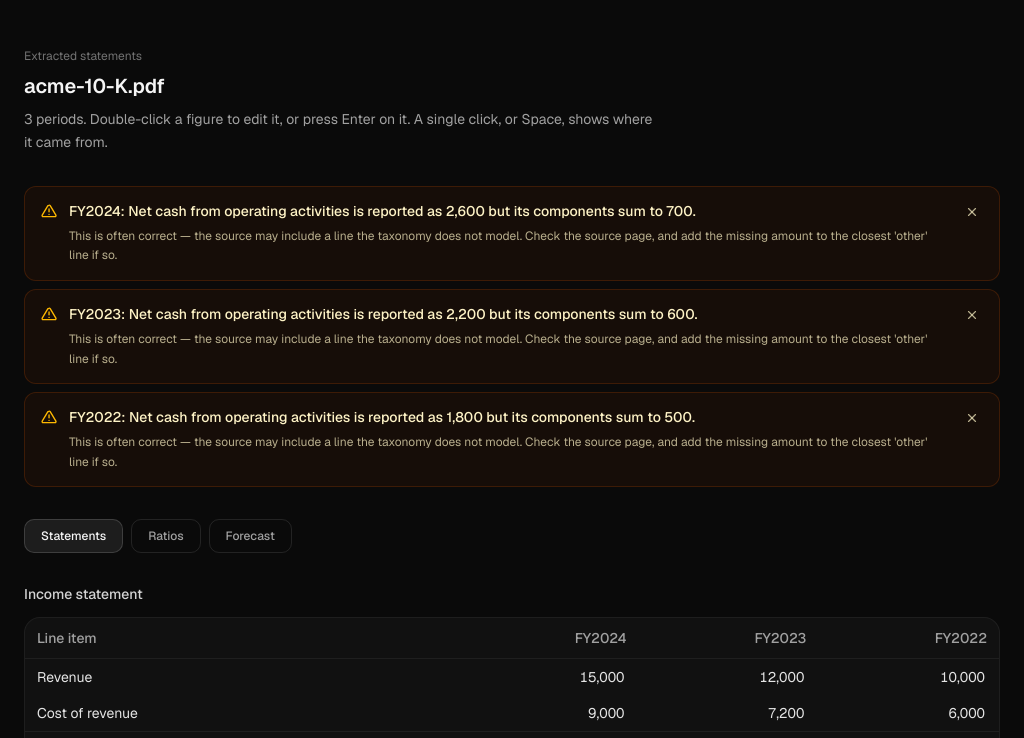
Test case: clicking a ratio component that sits in a forecast period › still opens provenance for a historical component
Click the tab "Ratios".
click(166, 536)  # box [131,519,201,553]
(page scrolled)
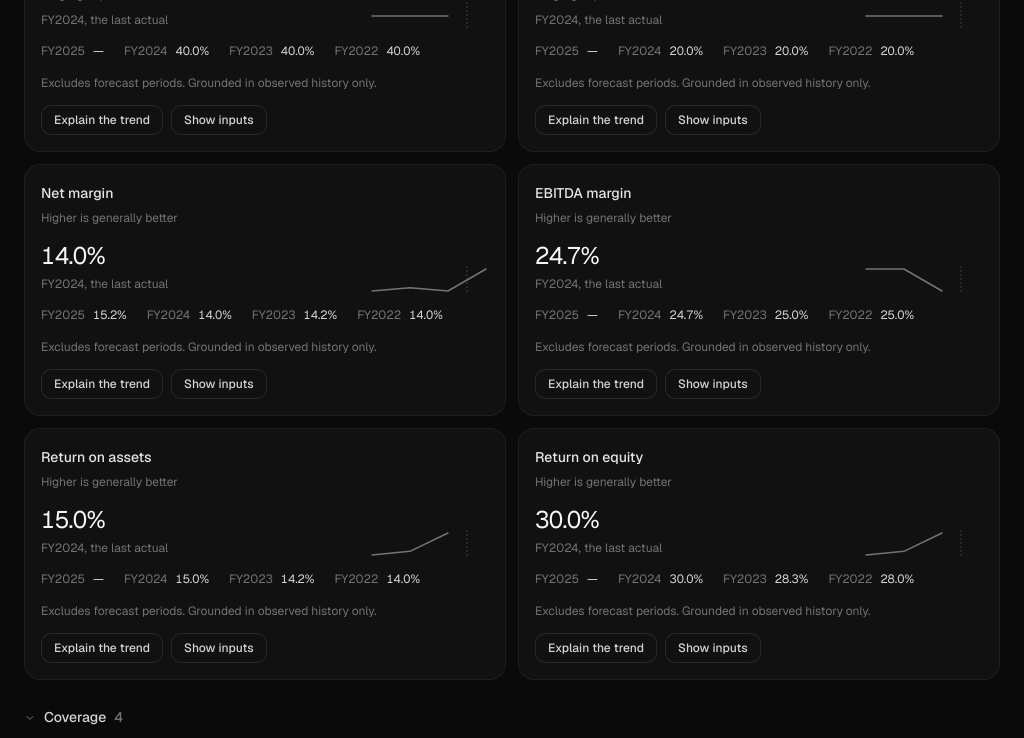
Click the button "Show inputs" below "15.2%".
click(219, 384)  # box [171,369,267,399]
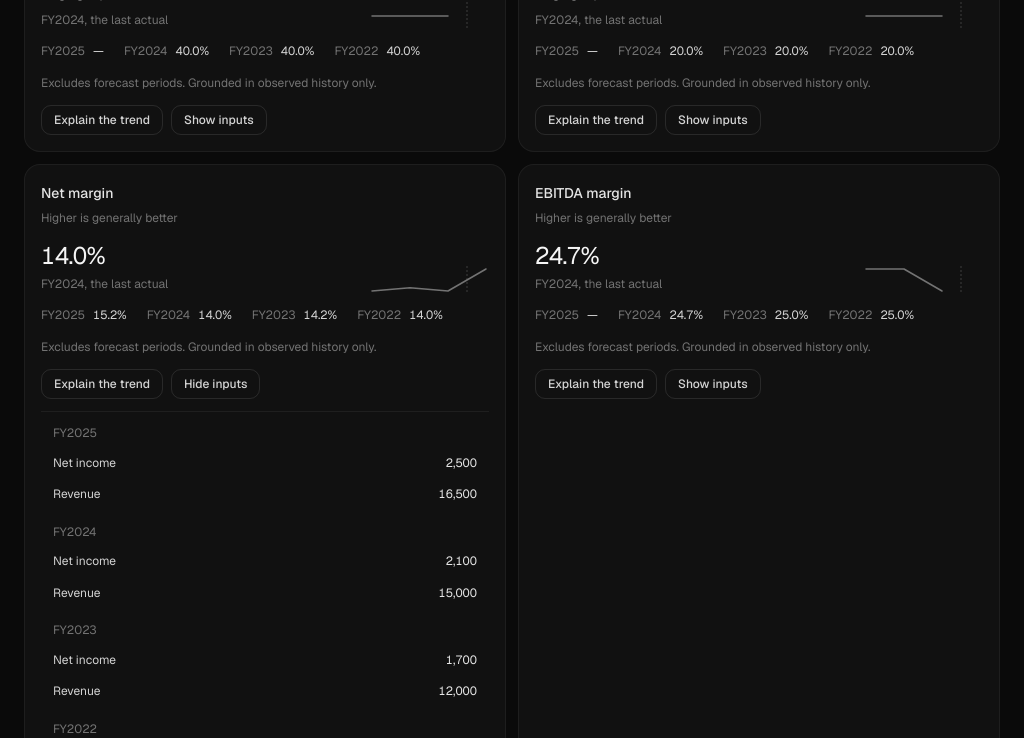
Click the button with aria-label "Revenue, FY2024".
click(77, 593)  # box [41,578,489,609]
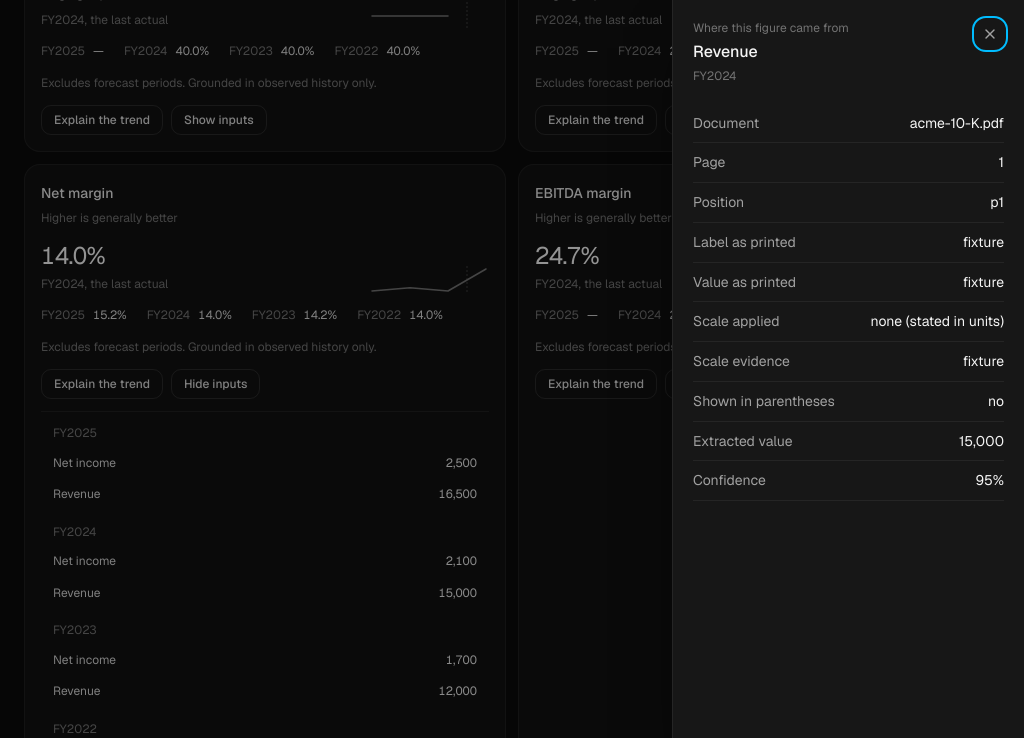
Check: the text "Where this figure came from" is shown, box [693,20,849,36]
